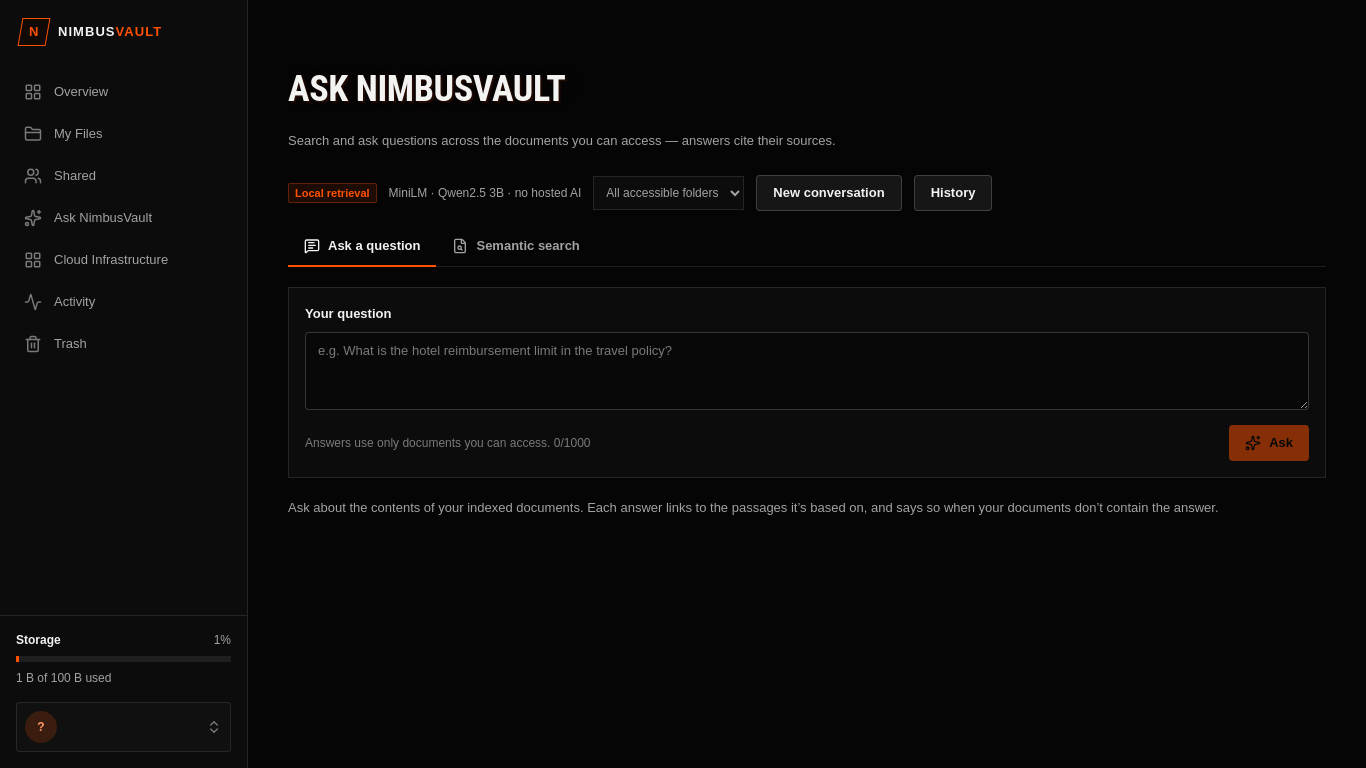
Test case: AskPage › shows provider errors without crashing
Replace the text in the text box labelled "Your question" with "What is the hotel cap?". click: [807, 371]
box: x1=305 y1=332 x2=1309 y2=410
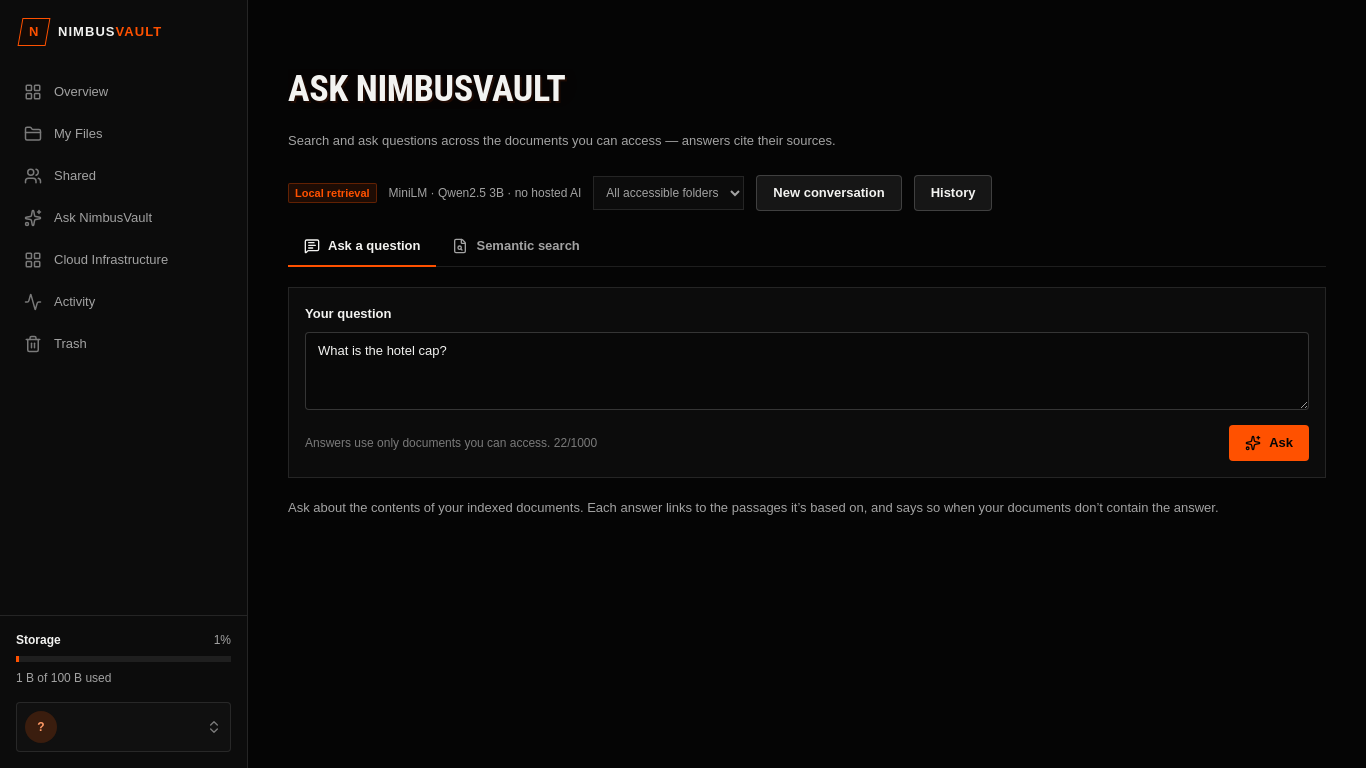
Click the button "Ask". click: [1269, 443]
box: x1=1229 y1=425 x2=1309 y2=461
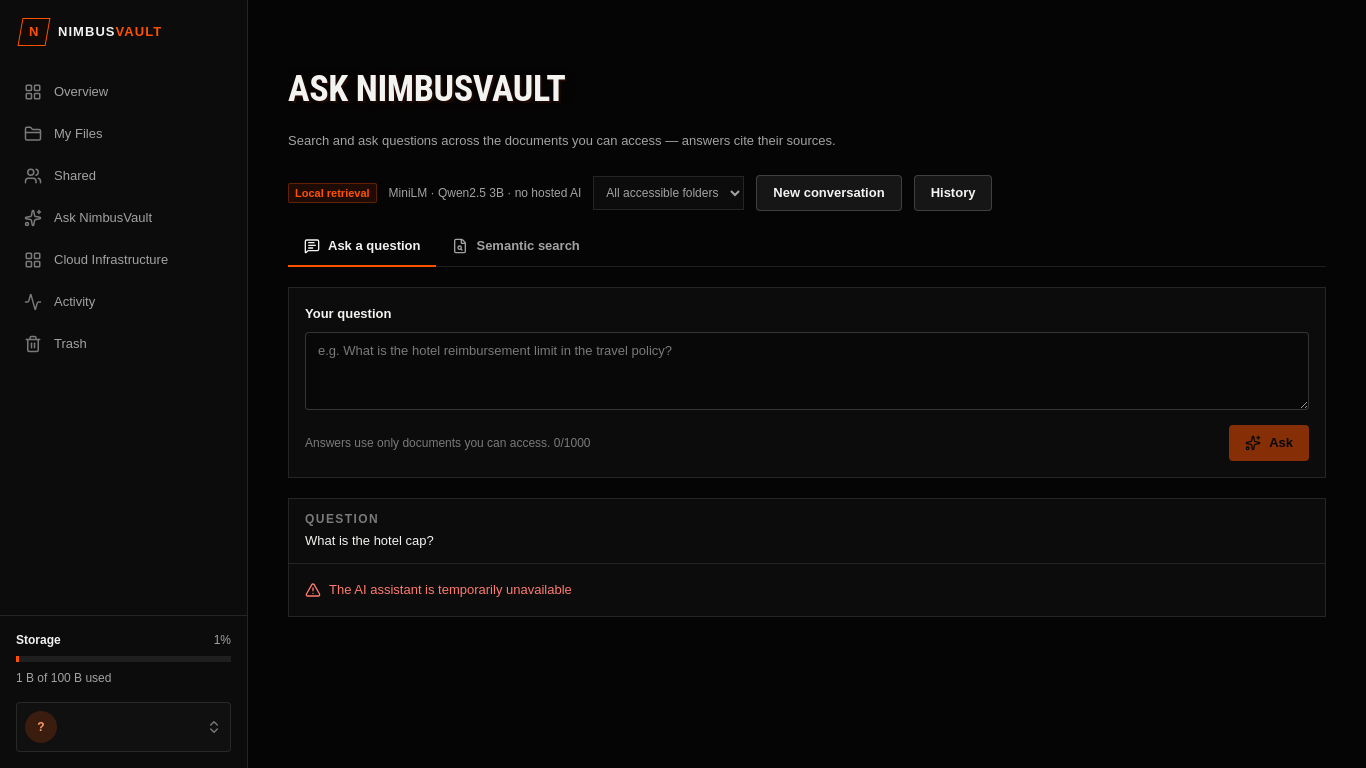
Expected: the message shows "temporarily unavailable", x1=329 y1=582 x2=572 y2=597
